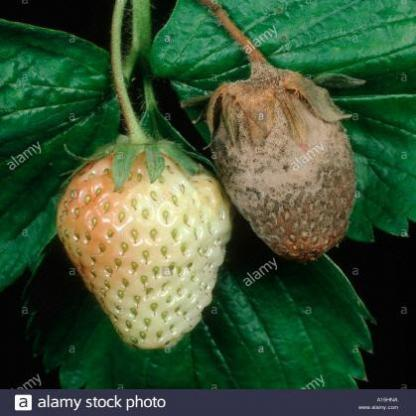Strawberry_Gray_Mold: (203, 53, 358, 260)
